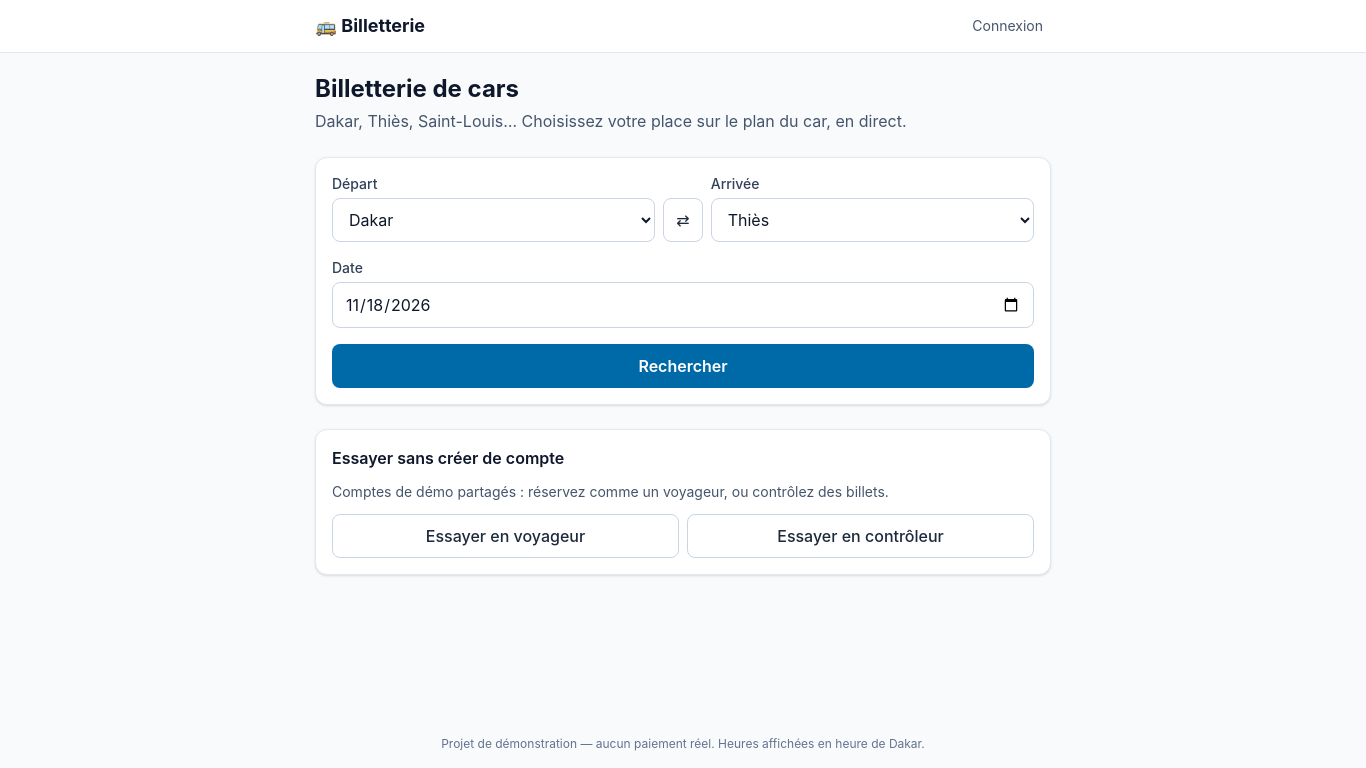
accueil › inverse les villes ; refuse deux fois la même ville
Click the button named "Inverser départ et arrivée" at (683, 220), box [663,198,703,242]
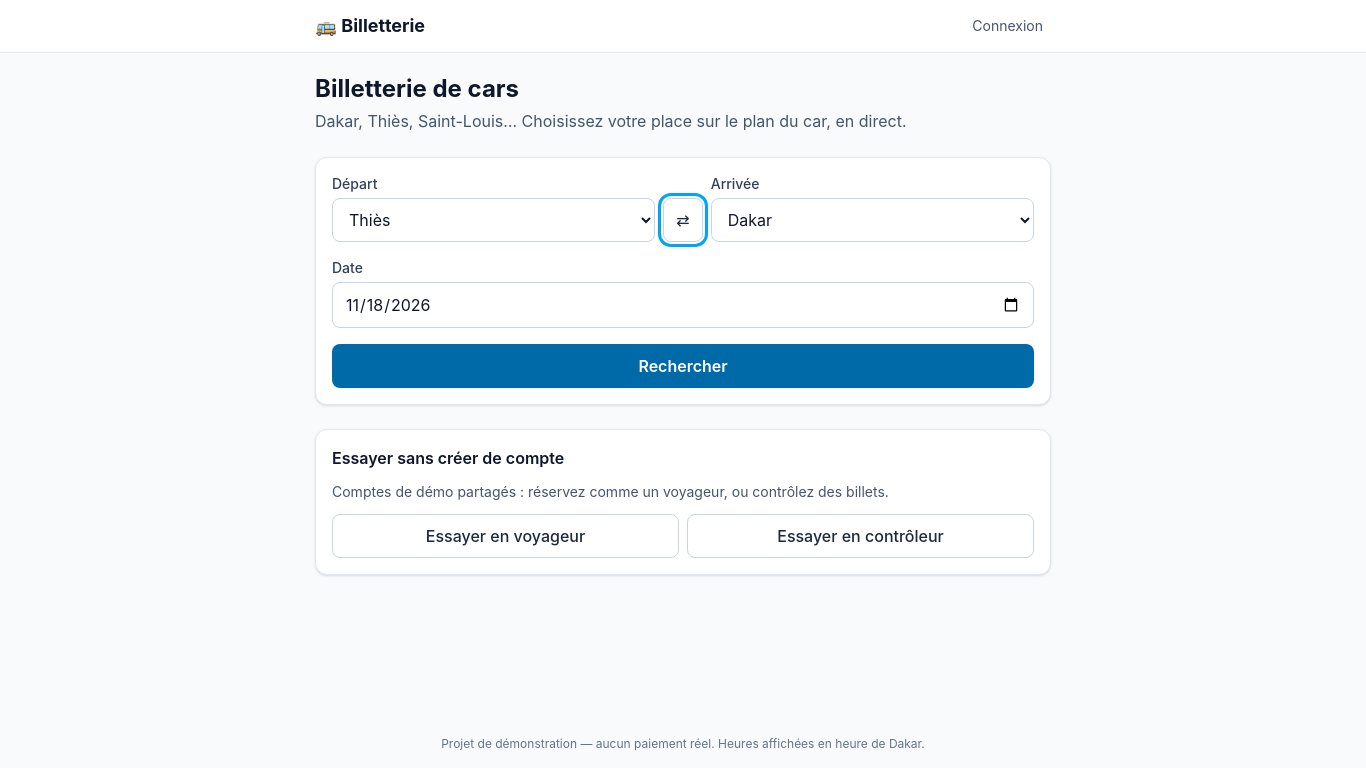
Check: the dropdown labelled "Départ" shows "Thiès", box [332,198,655,242]
Check: the dropdown labelled "Arrivée" shows "Dakar"
Select "Thiès" in the dropdown labelled "Arrivée" at (872, 220), box [711,198,1034,242]
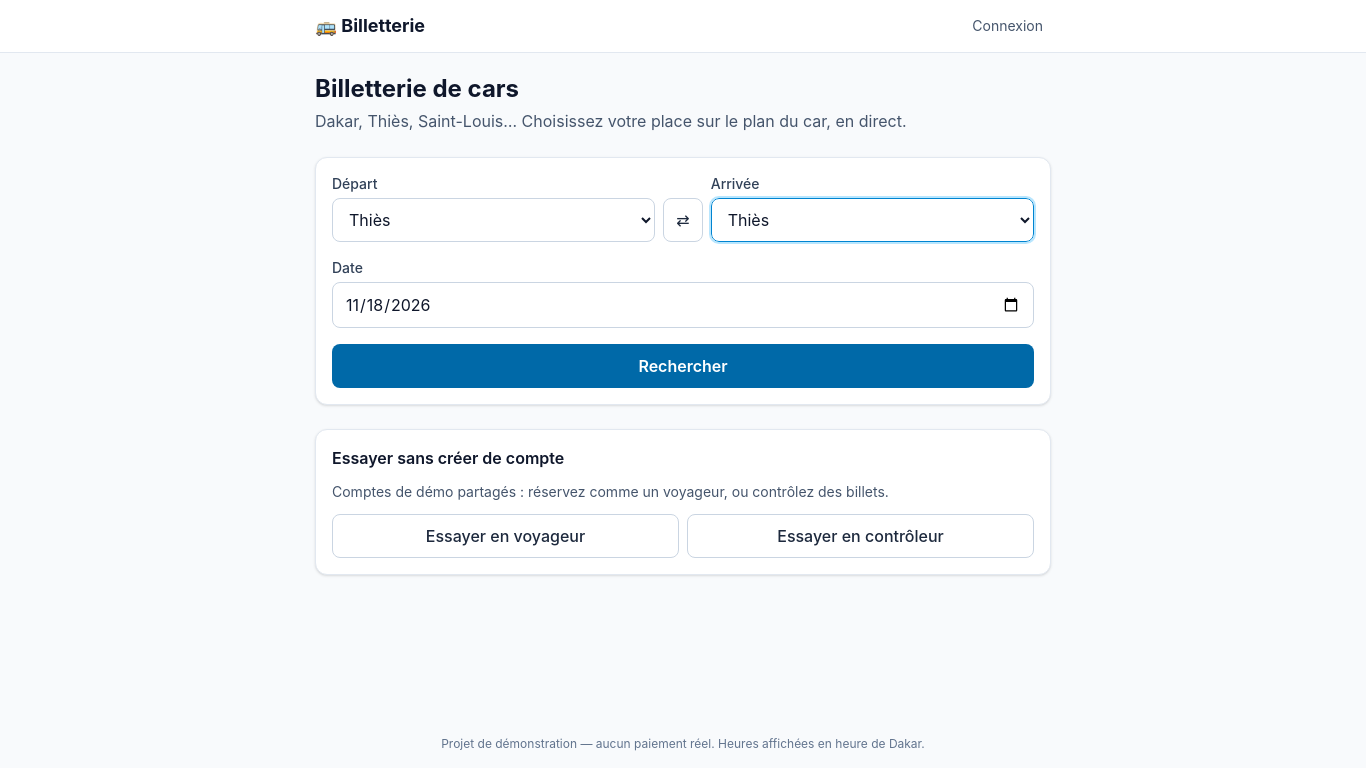
Click the button "Rechercher" at (683, 366), box [332,344,1034,388]
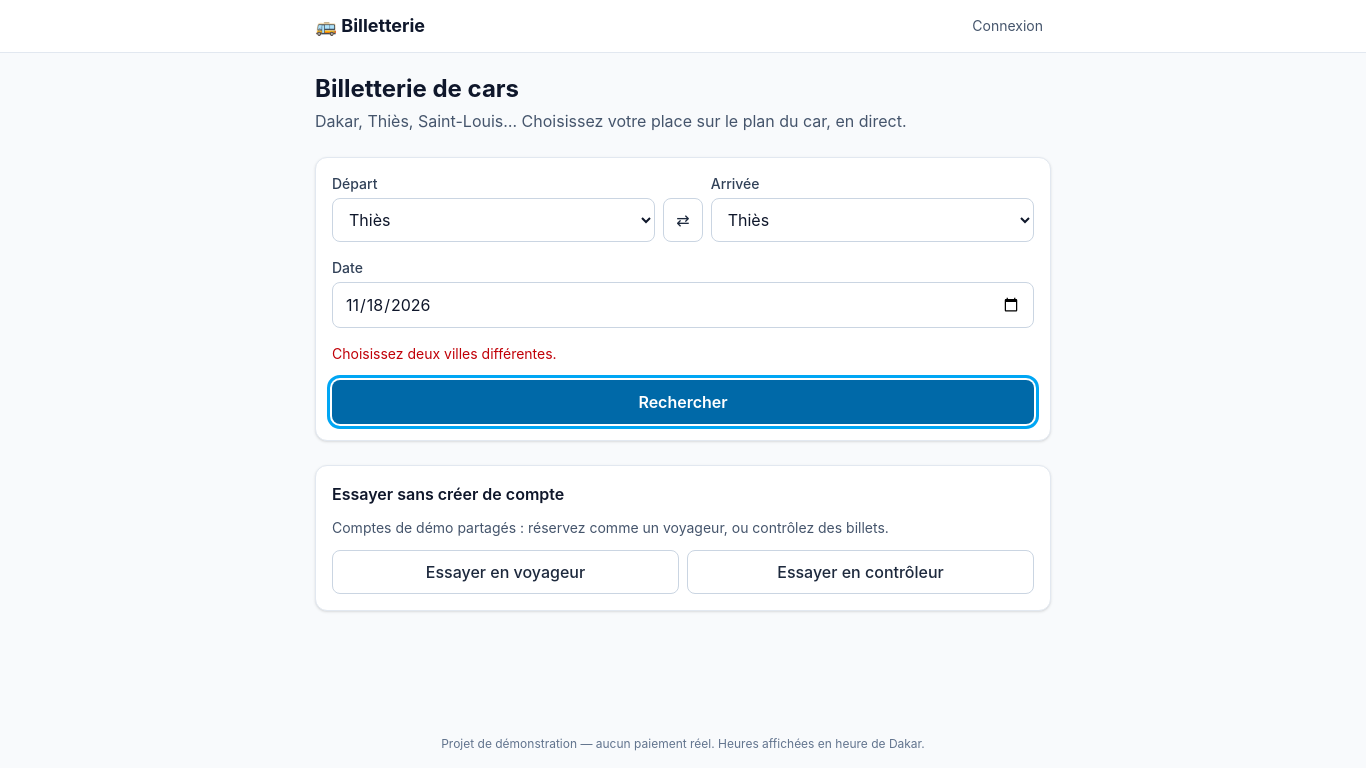
Check: the message reads "Choisissez deux villes différentes.", box [332,345,557,362]
